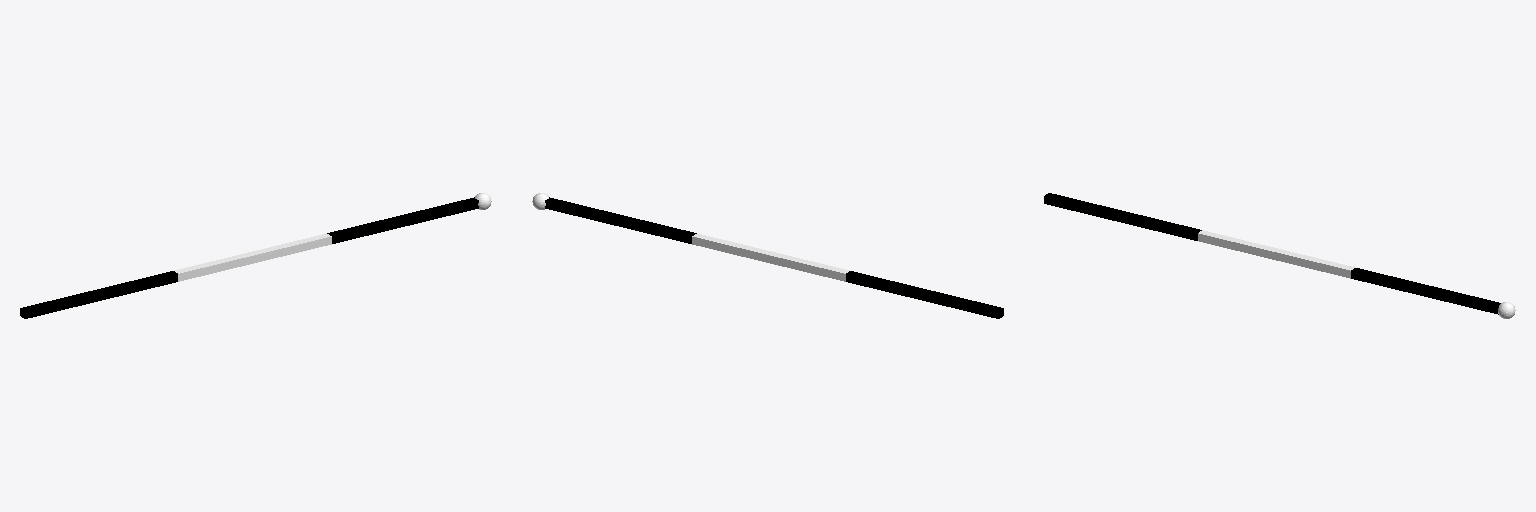
robot.urdf — 2link_robot:
<robot name="2link_robot">

    <material name="black">
        <color rgba="0 0 0 0.7"/>
    </material>
    <material name="white">
        <color rgba="1 1 1 0.7"/>
    </material>

    <link name="l0">
        <inertial>
            <origin xyz="0 0 0" rpy="0 0 0" />
            <mass value="1." />
            <inertia iyy="0.01" ixy="0.01" iyz="0.01" ixx="0.01" ixz="0.01" izz="0.1" />
        </inertial>
    </link>

    <link name="l1">
        <inertial>
            <origin xyz="0.5 0 0" rpy="0 0 0" />
            <mass value="1." />
            <inertia iyy="0.01" ixy="0.01" iyz="0.01" ixx="0.01" ixz="0.01" izz="0.1" />
        </inertial>
        <visual>
            <geometry>
                <box size="1 .05 .05"/>
            </geometry>
            <origin rpy="0 0 0" xyz="0.5 0 0"/>
            <material name="black"/>
        </visual>
    </link>

    <joint name="j0" type="revolute">
        <axis rpy="0 0 0" xyz="0 0 1"/>
        <parent link="l0"/>
        <child link="l1"/>
        <limit effort="150.0" lower="-6.28318530718" upper="6.28318530718" velocity="3.15"/>
    </joint>

    <link name="l2">
        <inertial>
            <origin xyz="0.5 0 0" rpy="0 0 0" />
            <mass value="1." />
            <inertia iyy="0.01" ixy="0.01" iyz="0.01" ixx="0.01" ixz="0.01" izz="0.1" />
        </inertial>
        <visual>
            <geometry>
                <box size="1 .05 .05"/>
            </geometry>
            <origin rpy="0 0 0" xyz="0.5 0 0"/>
            <material name="white"/>
        </visual>
    </link>

    <joint name="j1" type="revolute">
        <axis rpy="0 0 0" xyz="0 0 1"/>
        <parent link="l1"/>
        <child link="l2"/>
        <origin rpy="0 0 0" xyz="1 0 0"/>
        <limit effort="150.0" lower="-6.28318530718" upper="6.28318530718" velocity="3.15"/>
    </joint>

    <link name="l3">
        <inertial>
            <origin xyz="0.5 0 0" rpy="0 0 0" />
            <mass value="1." />
            <inertia iyy="0.01" ixy="0.01" iyz="0.01" ixx="0.01" ixz="0.01" izz="0.1" />
        </inertial>
        <visual>
            <geometry>
                <box size="1 .05 .05"/>
            </geometry>
            <origin rpy="0 0 0" xyz="0.5 0 0"/>
            <material name="black"/>
        </visual>
    </link>

    <joint name="j2" type="revolute">
        <axis rpy="0 0 0" xyz="0 0 1"/>
        <parent link="l2"/>
        <child link="l3"/>
        <origin rpy="0 0 0" xyz="1 0 0"/>
        <limit effort="150.0" lower="-6.28318530718" upper="6.28318530718" velocity="3.15"/>
    </joint>

    <link name="ee">
        <inertial>
            <origin xyz="0.0 0 0" rpy="0 0 0" />
            <mass value="0.001" />
            <inertia iyy="0.0001" ixy="0.0001" iyz="0.0001" ixx="0.0001" ixz="0.0001" izz="0.0001" />
        </inertial>
        <visual>
            <geometry>
                <sphere radius="0.05"/>
            </geometry>
            <origin rpy="0 0 0" xyz="0 0 0"/>
            <material name="white"/>
        </visual>
    </link>

    <joint name="ee_joint" type="fixed">
        <parent link="l3"/>
        <child link="ee"/>
        <origin rpy="0 0 0" xyz="1.0 0 0"/>
    </joint>

</robot>

--- Facts derived from the render (not from the file) ---
The picture shows the robot from 3 angles, left to right: view 1: azimuth 30°, elevation 25°; view 2: azimuth 150°, elevation 25°; view 3: azimuth 330°, elevation 25°; orthographic projection.
Model 2link_robot with 5 links and 4 joints (3 revolute, 1 fixed), rooted at l0, posed all joints at 0.
Visible links, largest first — view 1: l1, l2, l3; view 2: l1, l2, l3; view 3: l1, l2, l3.
Boxes of the visible links, <box> form: l1: <box>20,271,177,318</box>; l2: <box>175,233,331,281</box>; l3: <box>327,197,478,243</box>; l1: <box>846,271,1003,318</box>; l2: <box>692,233,848,281</box>; l3: <box>545,197,696,243</box>; l1: <box>1044,193,1201,240</box>; l2: <box>1198,230,1355,278</box>; l3: <box>1351,268,1500,314</box>.
Size in the robot's own frame: 3.05 by 0.1 by 0.1 metres.
Geometry: primitives only (box / cylinder / sphere), no mesh files.
